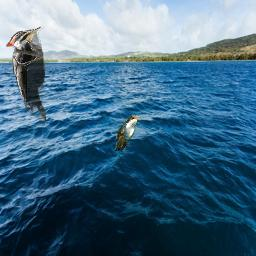Cuckoo: (115, 115, 141, 151)
Woodpecker: (6, 26, 46, 128)
